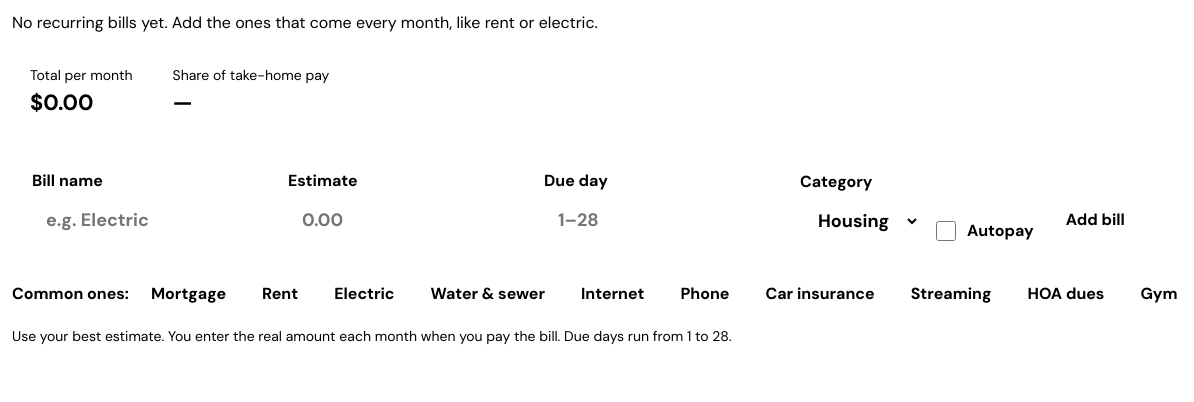
Test case: P1-12 recurring bills step › estimate must be > 0: shows a message and saves nothing
Type "Gym" into the field labelled "Bill name" at (154, 220), box [32,197,276,244]
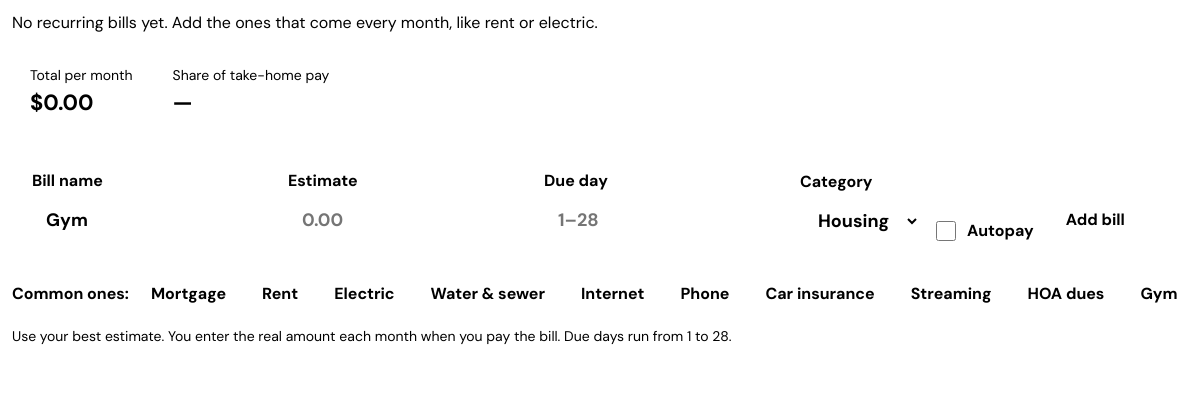
Type "0" into the field labelled "Estimate" at (410, 220), box [288,197,532,244]
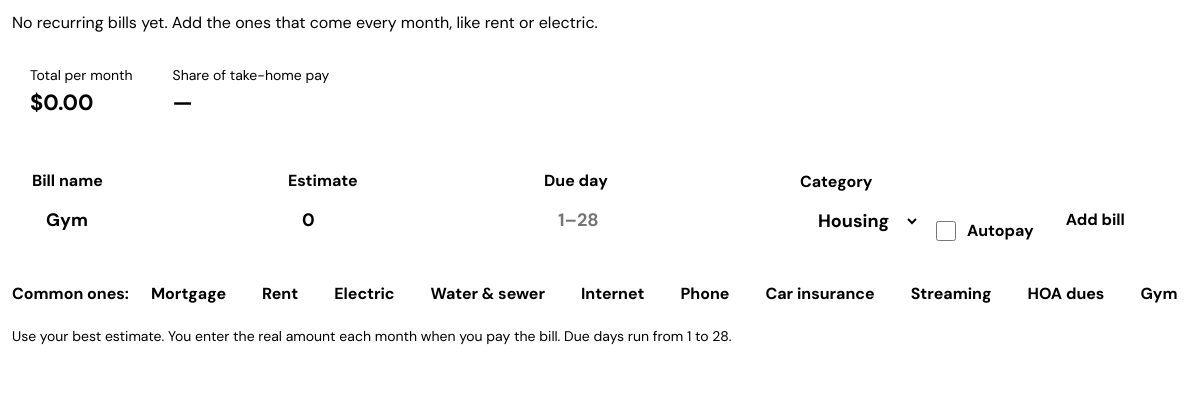
Type "3" into the field labelled "Due day" at (666, 220), box [544,197,788,244]
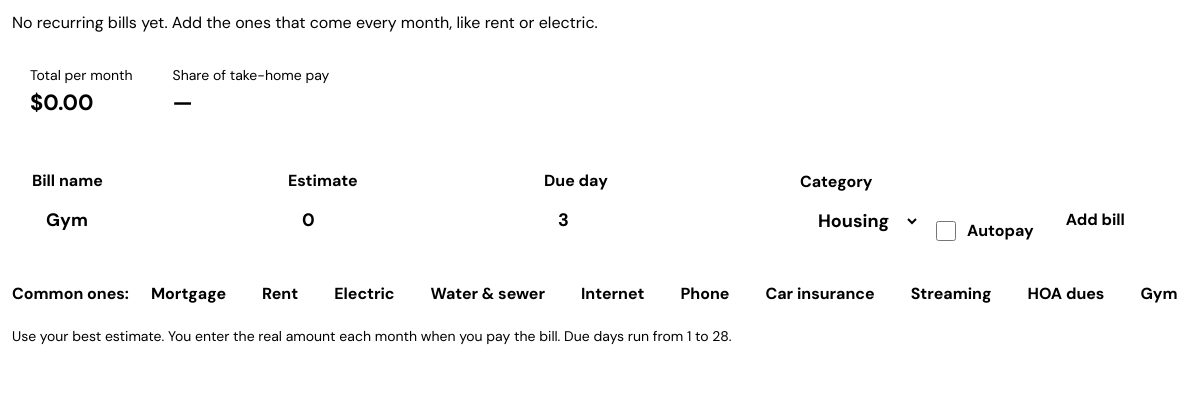
Click the button "Add bill" at (1095, 220), box [1046,196,1145,244]
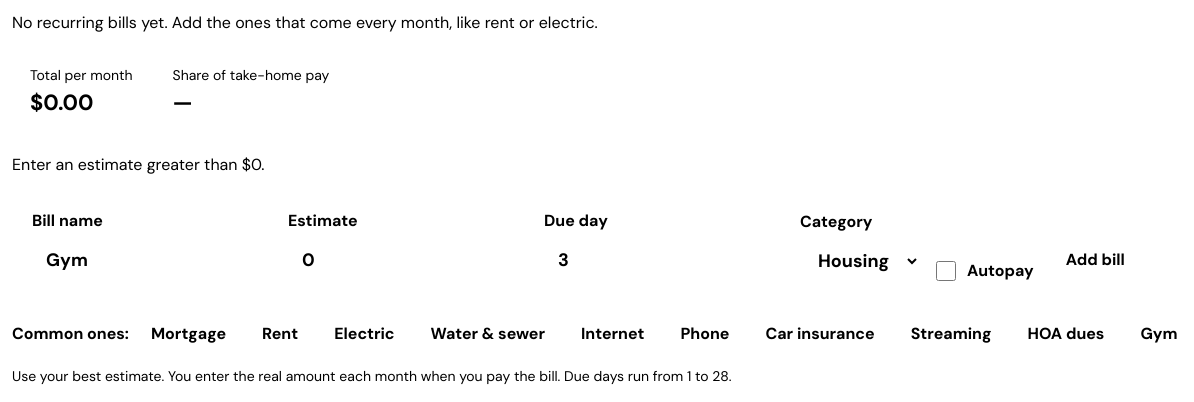
Check: the message reads "Enter an estimate greater than $0.", box [12,154,264,175]
